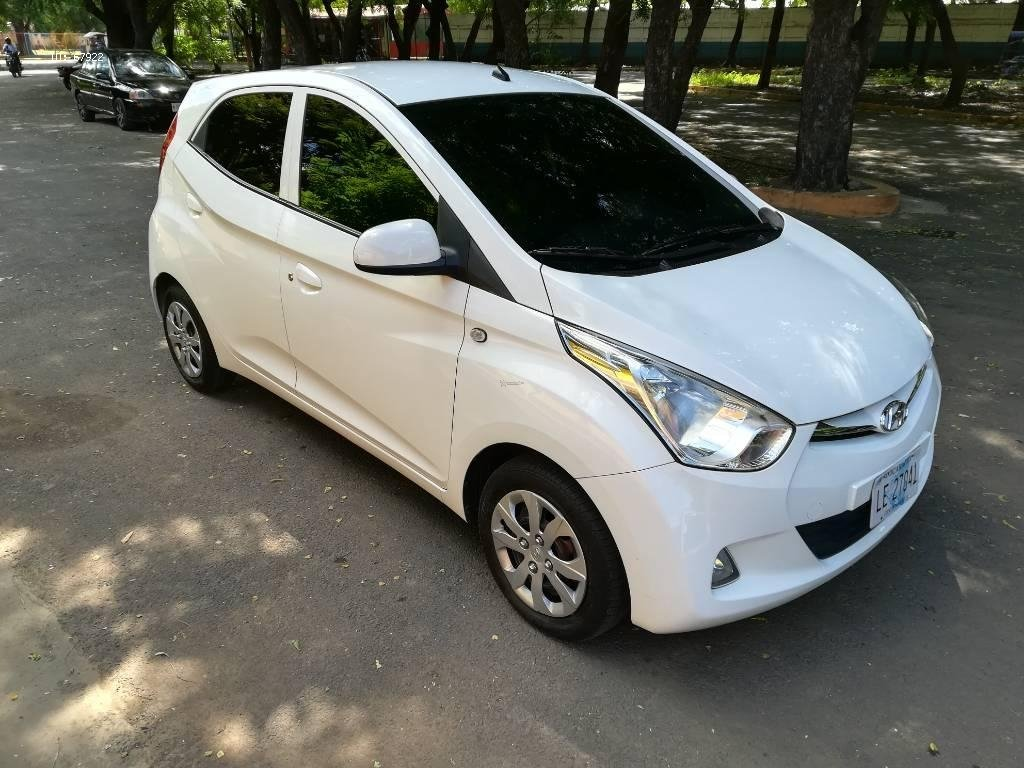eon: (125, 34, 967, 658)
